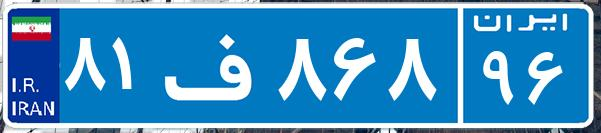1: (110, 28, 158, 105)
6: (330, 28, 385, 110), (525, 38, 570, 115)
8: (385, 28, 445, 110), (273, 28, 330, 110), (57, 26, 110, 107)
9: (475, 38, 525, 113)
ف: (158, 15, 273, 115)
